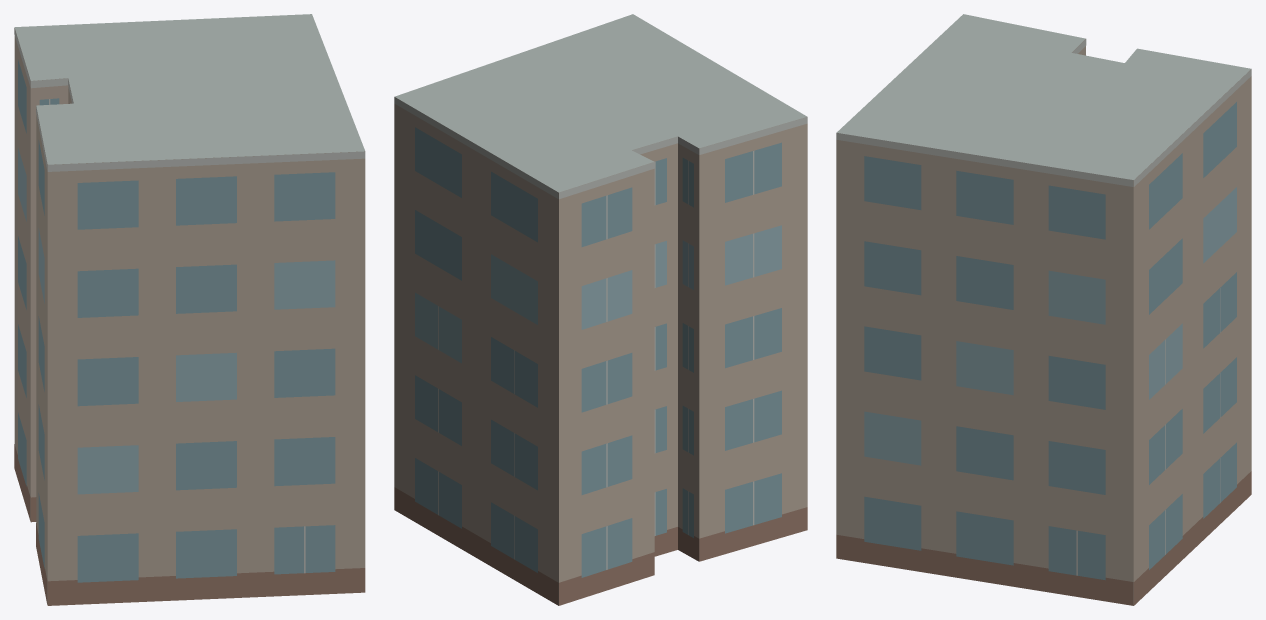
Rendered from survey-upis-32527923.glb.
3 views of the same model, side by side, from view 1: azimuth 30°, elevation 25°; view 2: azimuth 150°, elevation 25°; view 3: azimuth 270°, elevation 25° (orthographic). The views are drawn at different scales.
Parts seen in each view (by area): view 1: survey-upis-32527923.tmp; view 2: survey-upis-32527923.tmp; view 3: survey-upis-32527923.tmp.
Boxes of the visible parts, x1,y1,x2,y2 form: survey-upis-32527923.tmp: (14,14,365,605); survey-upis-32527923.tmp: (394,14,807,605); survey-upis-32527923.tmp: (836,14,1251,605).
Size of the model in its own units: 12.39 by 14.8 by 13.09.
